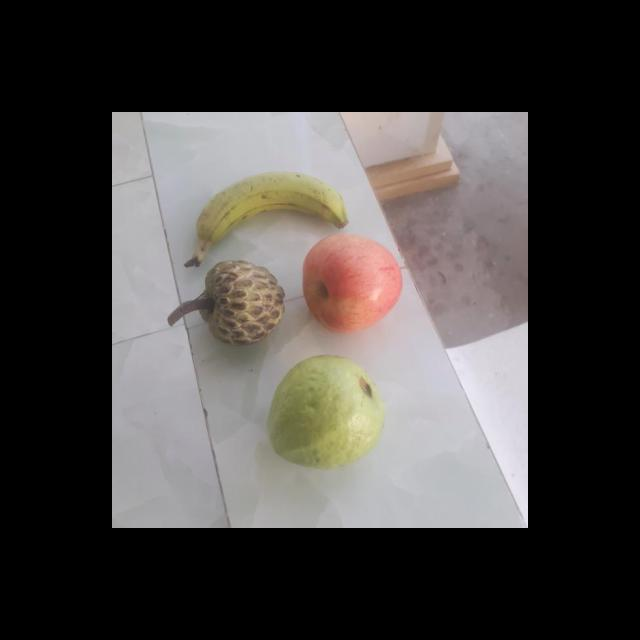Sakya fruit: (201, 260, 288, 346)
apple: (300, 232, 404, 330)
banana: (190, 171, 360, 267)
guava: (270, 355, 389, 468)
